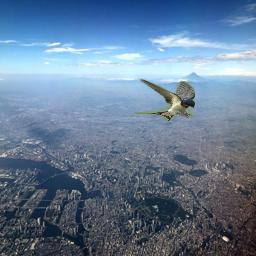Swallow: (134, 78, 195, 121)
